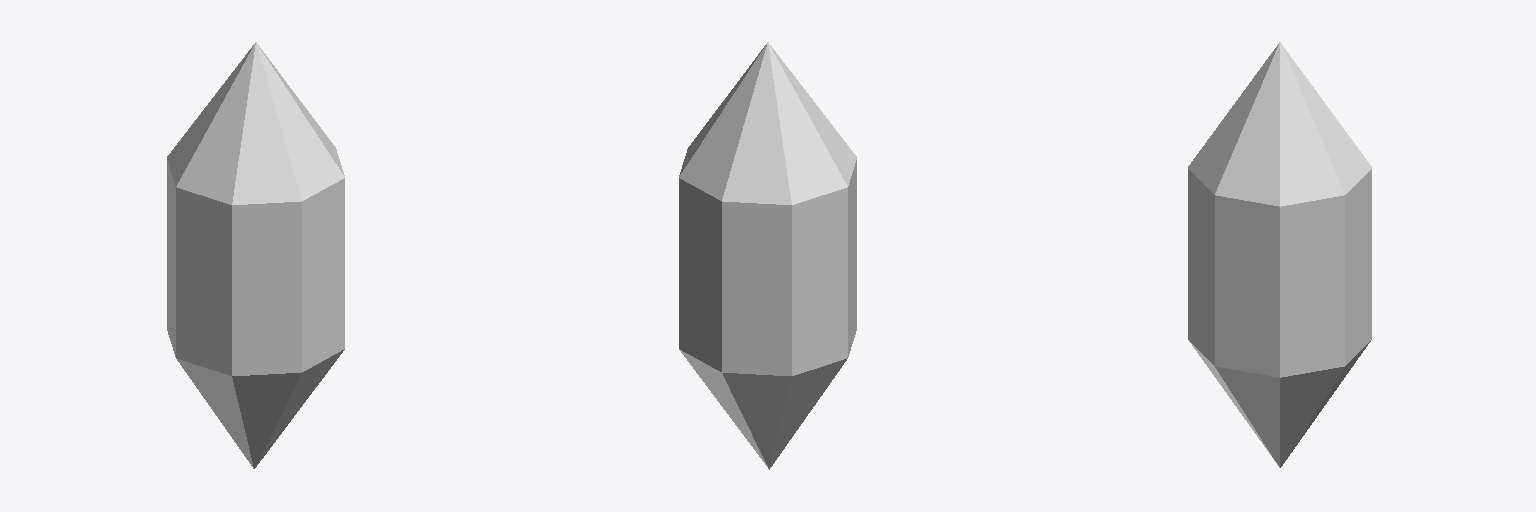
The model's file is exp-crystal.obj.
3 renders of one model, left to right at view 1: azimuth 30°, elevation 25°; view 2: azimuth 150°, elevation 25°; view 3: azimuth 270°, elevation 25°, orthographic.
Visible parts, largest first — view 1: Cylinder0; view 2: Cylinder0; view 3: Cylinder0.
Boxes of the visible parts, <box> form: Cylinder0: <box>167,42,344,468</box>; Cylinder0: <box>679,42,856,469</box>; Cylinder0: <box>1188,42,1371,467</box>.
Size of the model in its own units: 3.04 by 7.74 by 3.04.